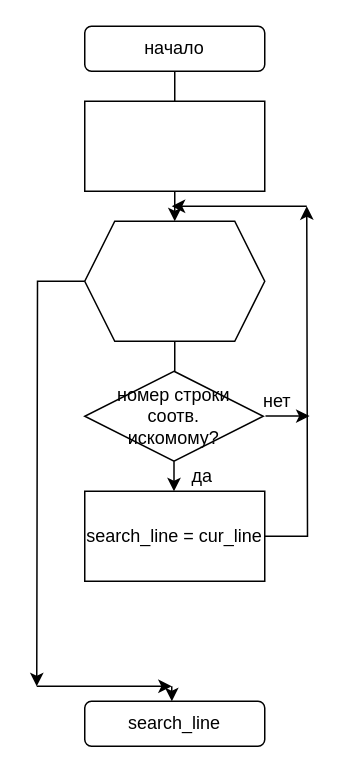
Some shapes in this 348 by 773 pixel diagram are drawn without their labels. The shapes that lost their labels are listed below. From the top down, each one's centre as x and y in pixels, then its label:
At [174,145]: "search_lines".
At [174,280]: "пока есть строки в файле homework1.txt".
